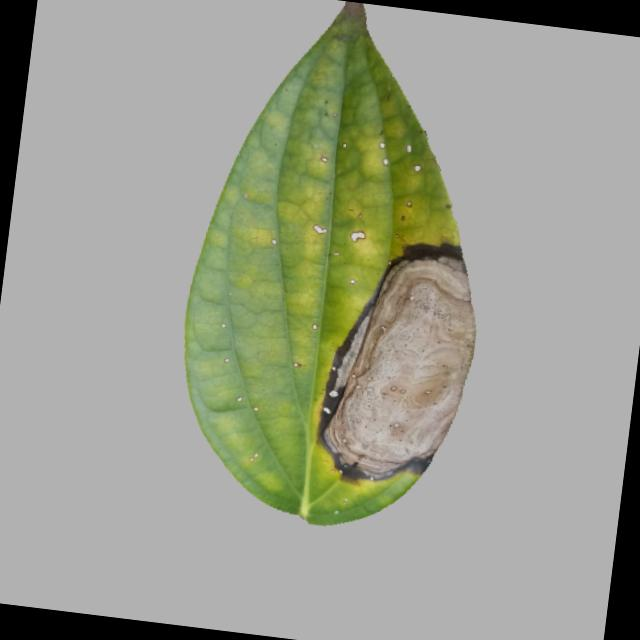leaf-blight: (148, 0, 531, 539)
